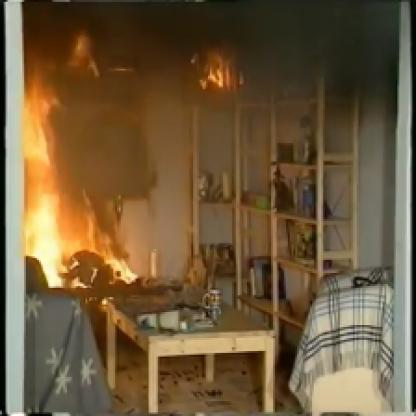fire: (20, 38, 142, 294), (187, 29, 254, 97)
